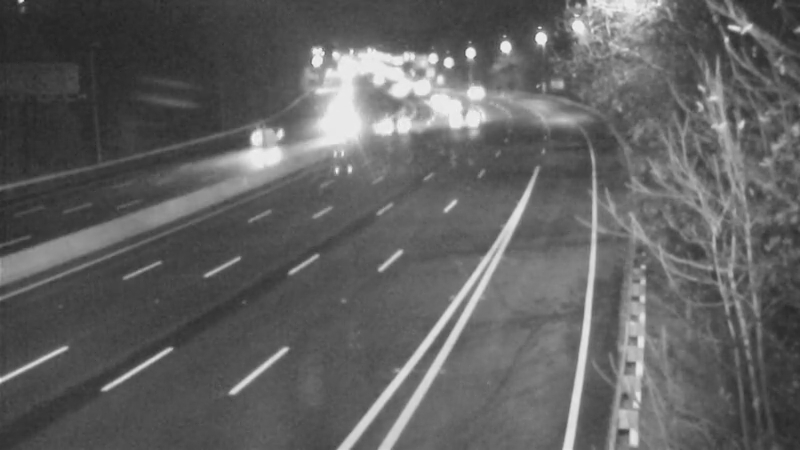vehicle: (442, 67, 492, 117), (366, 64, 416, 114), (404, 73, 454, 123), (420, 83, 470, 133), (438, 95, 488, 145), (312, 110, 362, 160), (231, 115, 281, 165), (308, 88, 358, 138)
